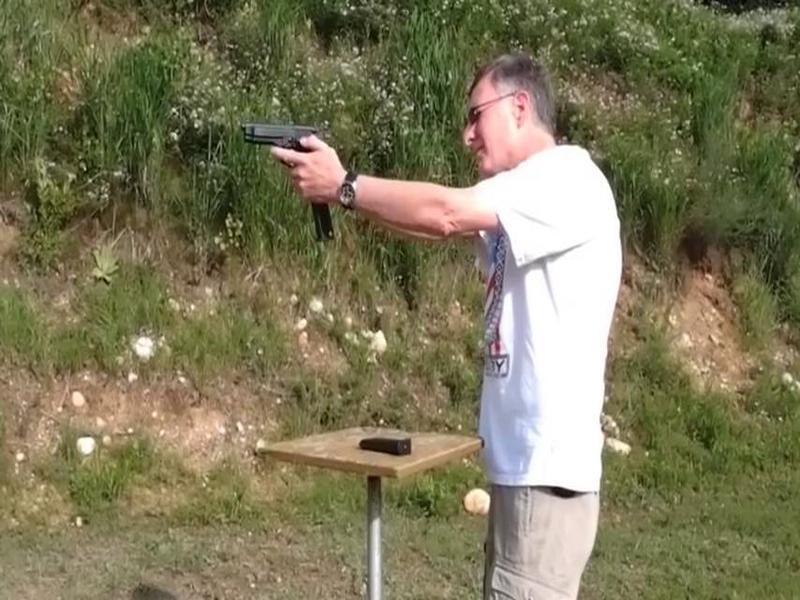Pistola: (244, 99, 344, 195)
